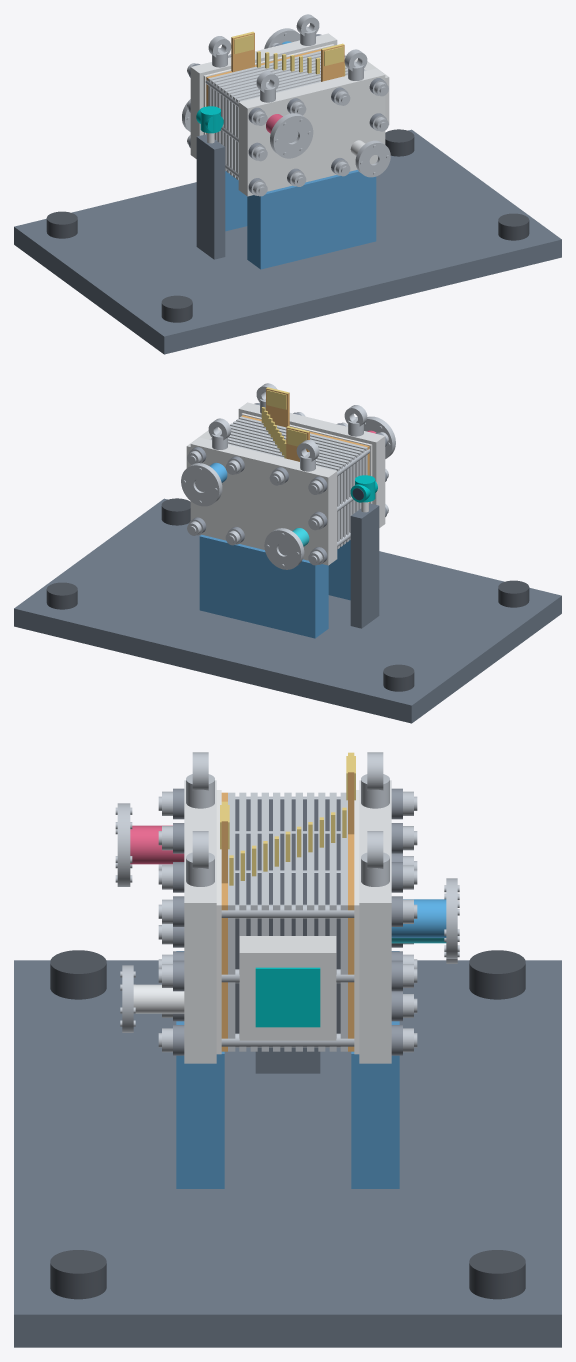
File: STK-010_10Cell_PEM_Stack.glb
The picture shows the model from 3 angles, top to bottom: view 1: azimuth 30°, elevation 25°; view 2: azimuth 150°, elevation 25°; view 3: azimuth 270°, elevation 25°; orthographic projection. The views are drawn at different scales.
Parts seen in each view (by area): view 1: STK-010_001__Stack_TestStand_Baseplate__STRUCTURAL_SLATE_IS8, STK-010_004__Cathode_EndPlate_Cradle__STRUCTURAL_BLUE_EPOXY, STK-010_006__Cathode_316L_Clamping_EndPlate_35mm__SS316L_POL, STK-010_132__SITRANS_Sensor_Stanchion__STRUCTURAL_SLATE_IS80, STK-010_002__Vibration_Isolator_Pad__EPDM_GASKET_BLACK, STK-010_005__Anode_316L_Clamping_EndPlate_35mm__SS316L_POLIS, STK-010_114__Flange_N3_Cathode_30bar_H2_Out__FLANGE_FORGED_S, STK-010_003__Anode_EndPlate_Cradle__STRUCTURAL_BLUE_EPOXY, STK-010_122__Flange_N4_Cathode_Drain__FLANGE_FORGED_SS, STK-010_008__Anode_Lifting_Lug_Eye__FLANGE_FORGED_SS, STK-010_010__Cathode_Lifting_Lug_Eye__FLANGE_FORGED_SS, STK-010_130__PDT_010_Siemens_SITRANS_P320_Bezel__SIEMENS_PET (+10 smaller); view 2: STK-010_001__Stack_TestStand_Baseplate__STRUCTURAL_SLATE_IS8, STK-010_005__Anode_316L_Clamping_EndPlate_35mm__SS316L_POLIS, STK-010_003__Anode_EndPlate_Cradle__STRUCTURAL_BLUE_EPOXY, STK-010_132__SITRANS_Sensor_Stanchion__STRUCTURAL_SLATE_IS80, STK-010_002__Vibration_Isolator_Pad__EPDM_GASKET_BLACK, STK-010_006__Cathode_316L_Clamping_EndPlate_35mm__SS316L_POL, STK-010_108__Flange_N2_Anode_O2_Out__FLANGE_FORGED_SS, STK-010_102__Flange_N1_DI_Water_In__FLANGE_FORGED_SS, STK-010_004__Cathode_EndPlate_Cradle__STRUCTURAL_BLUE_EPOXY, STK-010_008__Anode_Lifting_Lug_Eye__FLANGE_FORGED_SS, STK-010_027__Bipolar_Plate_Ti_Gr2_05__TITANIUM_GRADE2, STK-010_114__Flange_N3_Cathode_30bar_H2_Out__FLANGE_FORGED_S (+9 smaller); view 3: STK-010_001__Stack_TestStand_Baseplate__STRUCTURAL_SLATE_IS8, STK-010_002__Vibration_Isolator_Pad__EPDM_GASKET_BLACK, STK-010_005__Anode_316L_Clamping_EndPlate_35mm__SS316L_POLIS, STK-010_006__Cathode_316L_Clamping_EndPlate_35mm__SS316L_POL, STK-010_127__AERO_H2_EIS_Multiplexer_Box__SIEMENS_RAL7035, STK-010_003__Anode_EndPlate_Cradle__STRUCTURAL_BLUE_EPOXY, STK-010_004__Cathode_EndPlate_Cradle__STRUCTURAL_BLUE_EPOXY, STK-010_128__AERO_H2_Telemetry_Faceplate__SIEMENS_PETROL_TEA, STK-010_015__Bipolar_Plate_Ti_Gr2_01__TITANIUM_GRADE2, STK-010_045__Bipolar_Plate_Ti_Gr2_11__TITANIUM_GRADE2, STK-010_132__SITRANS_Sensor_Stanchion__STRUCTURAL_SLATE_IS80, STK-010_011__Anode_PTFE_Dielectric_Isolator__PTFE_TEFLON_WHI (+26 smaller).
Boxes of the visible parts, bbox=[...] form: STK-010_001__Stack_TestStand_Baseplate__STRUCTURAL_SLATE_IS8: bbox=[14, 129, 561, 354]; STK-010_004__Cathode_EndPlate_Cradle__STRUCTURAL_BLUE_EPOXY: bbox=[247, 170, 376, 269]; STK-010_006__Cathode_316L_Clamping_EndPlate_35mm__SS316L_POL: bbox=[238, 68, 385, 196]; STK-010_132__SITRANS_Sensor_Stanchion__STRUCTURAL_SLATE_IS80: bbox=[196, 134, 225, 259]; STK-010_002__Vibration_Isolator_Pad__EPDM_GASKET_BLACK: bbox=[46, 129, 529, 322]; STK-010_005__Anode_316L_Clamping_EndPlate_35mm__SS316L_POLIS: bbox=[190, 33, 337, 158]; STK-010_114__Flange_N3_Cathode_30bar_H2_Out__FLANGE_FORGED_S: bbox=[270, 113, 313, 158]; STK-010_003__Anode_EndPlate_Cradle__STRUCTURAL_BLUE_EPOXY: bbox=[225, 171, 247, 231]; STK-010_122__Flange_N4_Cathode_Drain__FLANGE_FORGED_SS: bbox=[355, 140, 390, 177]; STK-010_008__Anode_Lifting_Lug_Eye__FLANGE_FORGED_SS: bbox=[208, 14, 319, 57]; STK-010_010__Cathode_Lifting_Lug_Eye__FLANGE_FORGED_SS: bbox=[256, 49, 367, 92]; STK-010_130__PDT_010_Siemens_SITRANS_P320_Bezel__SIEMENS_PET: bbox=[196, 106, 223, 133]; STK-010_001__Stack_TestStand_Baseplate__STRUCTURAL_SLATE_IS8: bbox=[14, 498, 561, 723]; STK-010_005__Anode_316L_Clamping_EndPlate_35mm__SS316L_POLIS: bbox=[190, 437, 337, 565]; STK-010_003__Anode_EndPlate_Cradle__STRUCTURAL_BLUE_EPOXY: bbox=[199, 535, 328, 638]; STK-010_132__SITRANS_Sensor_Stanchion__STRUCTURAL_SLATE_IS80: bbox=[350, 503, 379, 628]; STK-010_002__Vibration_Isolator_Pad__EPDM_GASKET_BLACK: bbox=[46, 498, 529, 691]; STK-010_006__Cathode_316L_Clamping_EndPlate_35mm__SS316L_POL: bbox=[238, 402, 385, 527]; STK-010_108__Flange_N2_Anode_O2_Out__FLANGE_FORGED_SS: bbox=[181, 463, 222, 506]; STK-010_102__Flange_N1_DI_Water_In__FLANGE_FORGED_SS: bbox=[264, 528, 304, 569]; STK-010_004__Cathode_EndPlate_Cradle__STRUCTURAL_BLUE_EPOXY: bbox=[328, 540, 350, 600]; STK-010_008__Anode_Lifting_Lug_Eye__FLANGE_FORGED_SS: bbox=[208, 418, 319, 461]; STK-010_027__Bipolar_Plate_Ti_Gr2_05__TITANIUM_GRADE2: bbox=[230, 432, 349, 542]; STK-010_114__Flange_N3_Cathode_30bar_H2_Out__FLANGE_FORGED_S: bbox=[364, 416, 395, 458]; STK-010_001__Stack_TestStand_Baseplate__STRUCTURAL_SLATE_IS8: bbox=[14, 960, 561, 1347]; STK-010_002__Vibration_Isolator_Pad__EPDM_GASKET_BLACK: bbox=[50, 950, 525, 1299]; STK-010_005__Anode_316L_Clamping_EndPlate_35mm__SS316L_POLIS: bbox=[359, 780, 391, 1063]; STK-010_006__Cathode_316L_Clamping_EndPlate_35mm__SS316L_POL: bbox=[184, 780, 216, 1063]; STK-010_127__AERO_H2_EIS_Multiplexer_Box__SIEMENS_RAL7035: bbox=[239, 936, 336, 1040]; STK-010_003__Anode_EndPlate_Cradle__STRUCTURAL_BLUE_EPOXY: bbox=[351, 951, 399, 1188]; STK-010_004__Cathode_EndPlate_Cradle__STRUCTURAL_BLUE_EPOXY: bbox=[176, 951, 224, 1188]; STK-010_128__AERO_H2_Telemetry_Faceplate__SIEMENS_PETROL_TEA: bbox=[255, 967, 320, 1027]; STK-010_015__Bipolar_Plate_Ti_Gr2_01__TITANIUM_GRADE2: bbox=[340, 792, 347, 1051]; STK-010_045__Bipolar_Plate_Ti_Gr2_11__TITANIUM_GRADE2: bbox=[228, 792, 235, 1051]; STK-010_132__SITRANS_Sensor_Stanchion__STRUCTURAL_SLATE_IS80: bbox=[255, 1047, 320, 1073]; STK-010_011__Anode_PTFE_Dielectric_Isolator__PTFE_TEFLON_WHI: bbox=[354, 790, 359, 1054].
Size of the model in its own units: 2.6 by 1.31 by 1.7.
